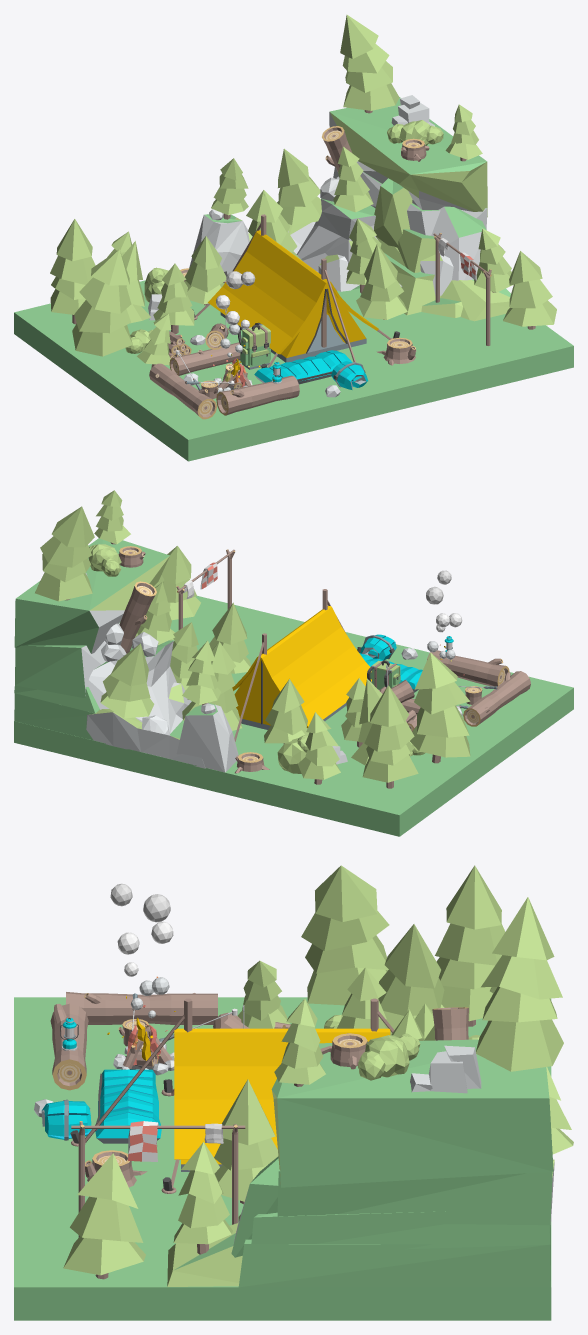
File: camp.glb
The picture shows the model from 3 angles, top to bottom: view 1: azimuth 30°, elevation 25°; view 2: azimuth 150°, elevation 25°; view 3: azimuth 270°, elevation 25°; orthographic projection. The views are drawn at different scales.
Parts seen in each view (by area): view 1: mesh_2016668438, mesh_1952899948, mesh_263612592, group_892487588, group_1952414952, group_2025258381, mesh_954393760, group_1511101908, group_800851294, group_1019102024, mesh_624108358, mesh_947843091 (+32 smaller); view 2: mesh_2016668438, mesh_1952899948, mesh_263612592, group_892487588, group_1952414952, mesh_632722702, group_2025258381, mesh_1774266040, mesh_1806860140, group_800851294, mesh_954393760, mesh_1434122196 (+25 smaller); view 3: mesh_2016668438, mesh_1952899948, mesh_1434122196, mesh_1997237509, mesh_632722702, group_1952414952, mesh_1511301575, group_892487588, group_2025258381, group_1511101908, group_282285962, group_1019102024 (+19 smaller).
Part boxes in pixels (x1=…): mesh_2016668438: x1=14, y1=280, x2=573, y2=461; mesh_1952899948: x1=329, y1=97, x2=487, y2=217; mesh_263612592: x1=208, y1=230, x2=327, y2=354; group_892487588: x1=72, y1=249, x2=132, y2=356; group_1952414952: x1=340, y1=14, x2=399, y2=113; group_2025258381: x1=50, y1=219, x2=95, y2=324; mesh_954393760: x1=296, y1=198, x2=378, y2=289; group_1511101908: x1=503, y1=251, x2=556, y2=329; group_800851294: x1=277, y1=148, x2=321, y2=225; group_1019102024: x1=356, y1=244, x2=407, y2=319; mesh_624108358: x1=431, y1=206, x2=486, y2=280; mesh_947843091: x1=374, y1=178, x2=412, y2=247; mesh_2016668438: x1=14, y1=595, x2=573, y2=836; mesh_1952899948: x1=14, y1=538, x2=169, y2=653; mesh_263612592: x1=260, y1=606, x2=371, y2=728; group_892487588: x1=410, y1=652, x2=470, y2=763; group_1952414952: x1=35, y1=506, x2=94, y2=601; mesh_632722702: x1=15, y1=622, x2=120, y2=697; group_2025258381: x1=362, y1=685, x2=418, y2=788; mesh_1774266040: x1=86, y1=709, x2=205, y2=768; mesh_1806860140: x1=176, y1=703, x2=238, y2=772; group_800851294: x1=100, y1=643, x2=154, y2=718; mesh_954393760: x1=88, y1=640, x2=182, y2=733; mesh_1434122196: x1=14, y1=640, x2=174, y2=740; mesh_2016668438: x1=14, y1=997, x2=551, y2=1320; mesh_1952899948: x1=271, y1=1039, x2=553, y2=1187; mesh_1434122196: x1=238, y1=1214, x2=550, y2=1287; mesh_1997237509: x1=174, y1=1028, x2=390, y2=1159; mesh_632722702: x1=277, y1=1170, x2=552, y2=1231; group_1952414952: x1=476, y1=897, x2=563, y2=1071; mesh_1511301575: x1=251, y1=1211, x2=550, y2=1249; group_892487588: x1=301, y1=865, x2=389, y2=1005; group_2025258381: x1=435, y1=865, x2=505, y2=1026; group_1511101908: x1=63, y1=1153, x2=145, y2=1279; group_282285962: x1=378, y1=924, x2=444, y2=1035; group_1019102024: x1=214, y1=1079, x2=278, y2=1204.
Bounding box in the file's own units: 638 × 373 × 500.
